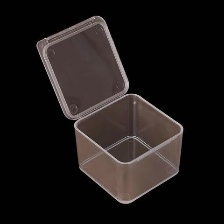plastic_box: (30, 10, 188, 211)
